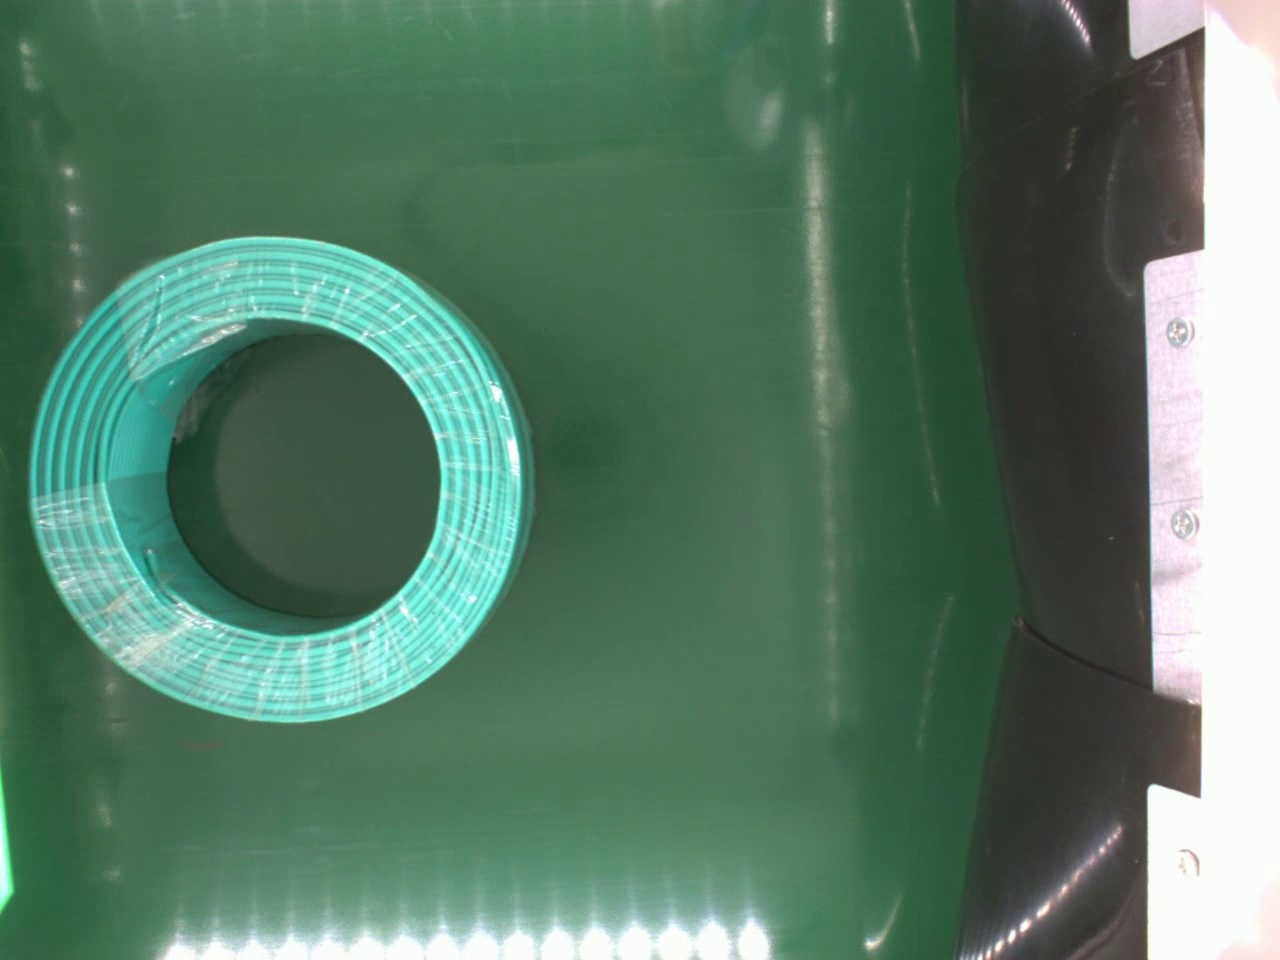green: (28, 234, 540, 728)
